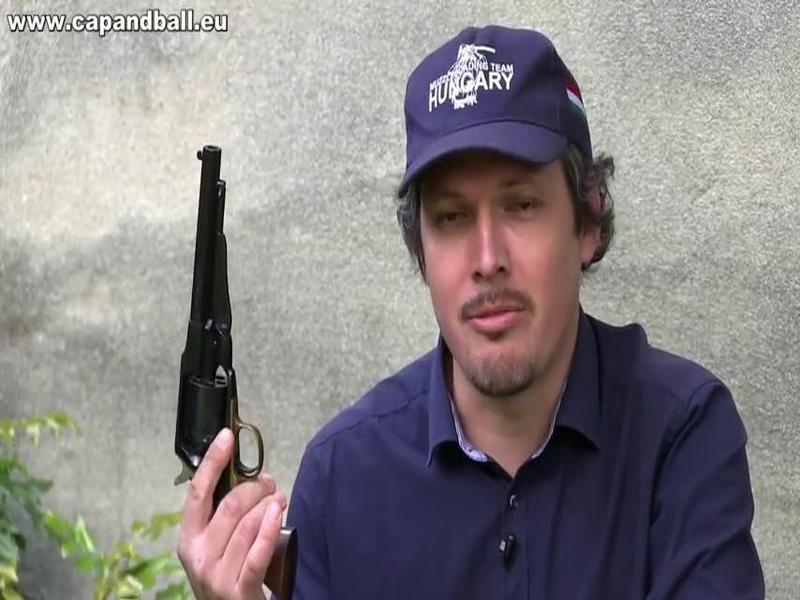Revolver: (173, 128, 325, 578)
